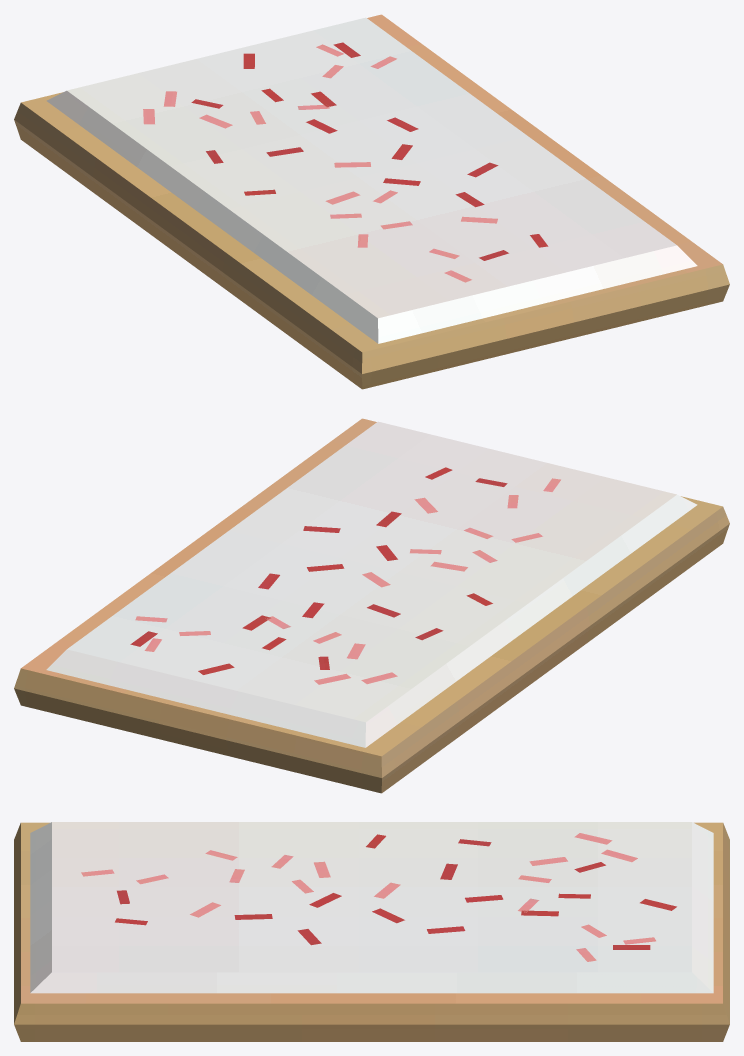
3 renders of one model, top to bottom at view 1: azimuth 30°, elevation 25°; view 2: azimuth 150°, elevation 25°; view 3: azimuth 270°, elevation 25°, orthographic. The views are drawn at different scales.
Parts seen in each view (by area): view 1: Cube.021_Cube.038; view 2: Cube.021_Cube.038; view 3: Cube.021_Cube.038.
Part boxes in pixels (left/top/right/bottom): Cube.021_Cube.038: left=14, top=14, right=729, bottom=389; Cube.021_Cube.038: left=14, top=418, right=729, bottom=793; Cube.021_Cube.038: left=14, top=822, right=729, bottom=1041.
Bounding box in the file's own units: 0.9208 × 0.1271 × 1.51.
1 material, 1 textured.
